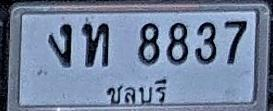3: (195, 21, 216, 64)
7: (224, 20, 247, 64)
8: (138, 22, 159, 65), (167, 22, 188, 64)
A07: (48, 23, 72, 67)
A23: (82, 22, 109, 66)
CBI: (102, 75, 171, 107)
